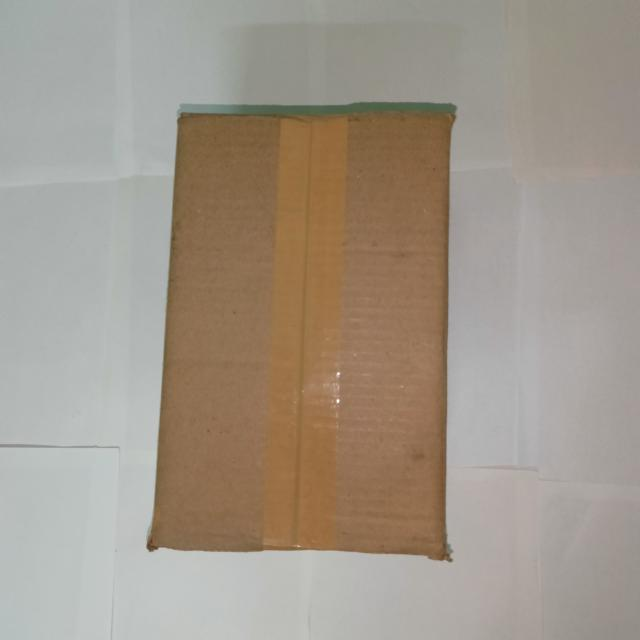box: (157, 118, 453, 546)
